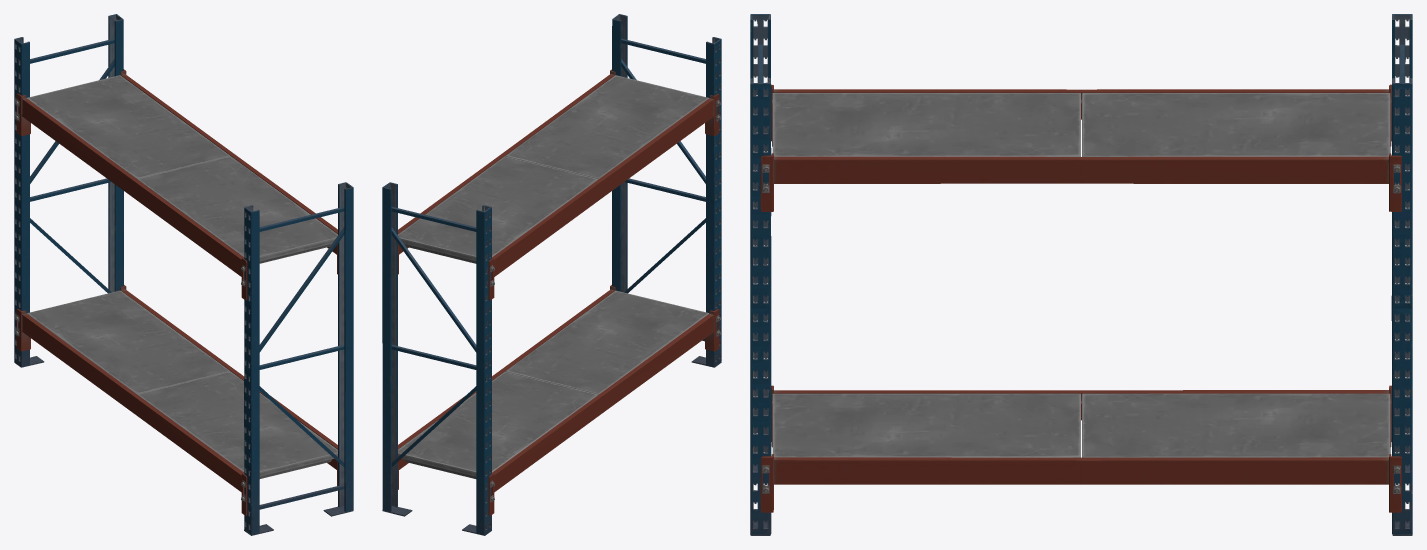
Rendered from RackLongEmpty_A1.glb.
The picture shows the model from 3 angles, left to right: view 1: azimuth 30°, elevation 25°; view 2: azimuth 150°, elevation 25°; view 3: azimuth 270°, elevation 25°; orthographic projection. The views are drawn at different scales.
Parts seen in each view (by area): view 1: Shelf_1003, Shelf_1001, Shelf_1002; view 2: Shelf_1003, Shelf_1001, Shelf_1002; view 3: Shelf_1003, Shelf_1002, Shelf_1001.
Part boxes in pixels (<box>): Shelf_1003: <box>27,75,337,478</box>; Shelf_1001: <box>14,14,353,535</box>; Shelf_1002: <box>15,69,337,515</box>; Shelf_1003: <box>398,75,708,478</box>; Shelf_1001: <box>382,14,721,535</box>; Shelf_1002: <box>398,69,720,515</box>; Shelf_1003: <box>772,93,1390,457</box>; Shelf_1002: <box>760,84,1401,512</box>; Shelf_1001: <box>750,14,1412,535</box>.
Bounding box in the file's own units: 1.08 × 3.01 × 4.
3 materials, 3 textured.
